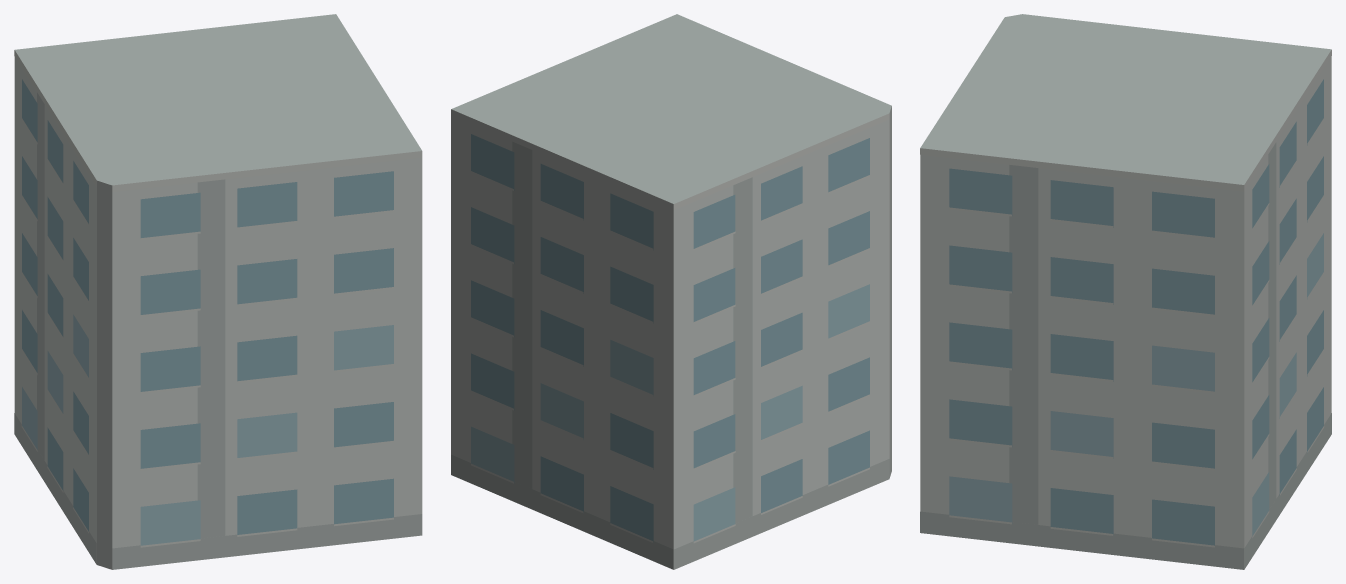
File: survey-upis-32633444.glb
The picture shows the model from 3 angles, left to right: view 1: azimuth 30°, elevation 25°; view 2: azimuth 150°, elevation 25°; view 3: azimuth 270°, elevation 25°; orthographic projection. The views are drawn at different scales.
Parts seen in each view (by area): view 1: survey-upis-32633444.tmp; view 2: survey-upis-32633444.tmp; view 3: survey-upis-32633444.tmp.
Boxes of the visible parts, x1=… form: survey-upis-32633444.tmp: x1=14, y1=14, x2=422, y2=569; survey-upis-32633444.tmp: x1=451, y1=14, x2=891, y2=569; survey-upis-32633444.tmp: x1=920, y1=14, x2=1331, y2=569.
Bounding box in the file's own units: 13.73 × 14.4 × 13.97.
